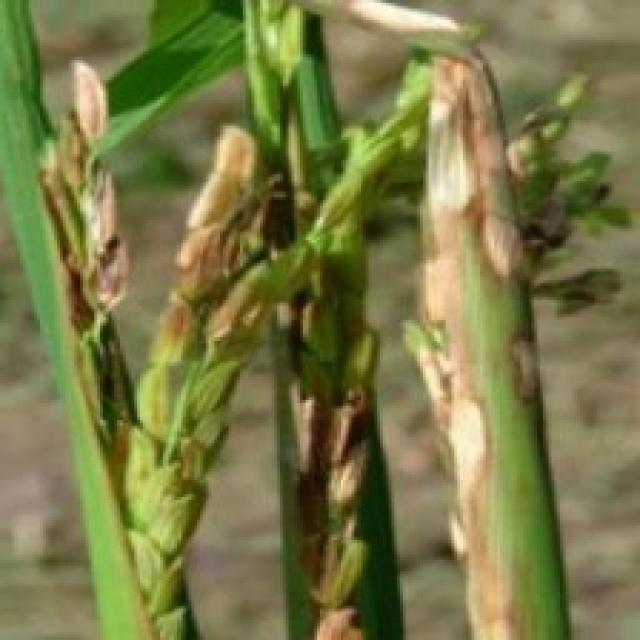Bacterial_Blight: (418, 53, 536, 293), (434, 380, 503, 565), (500, 320, 548, 407)
